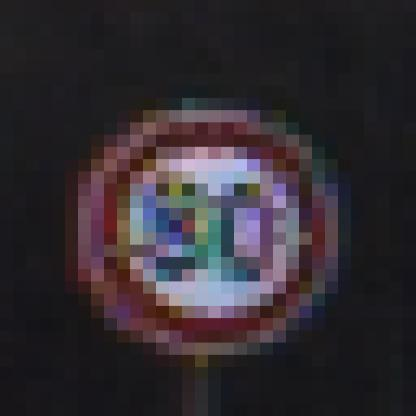Speed Limit -80-: (57, 81, 349, 388)
